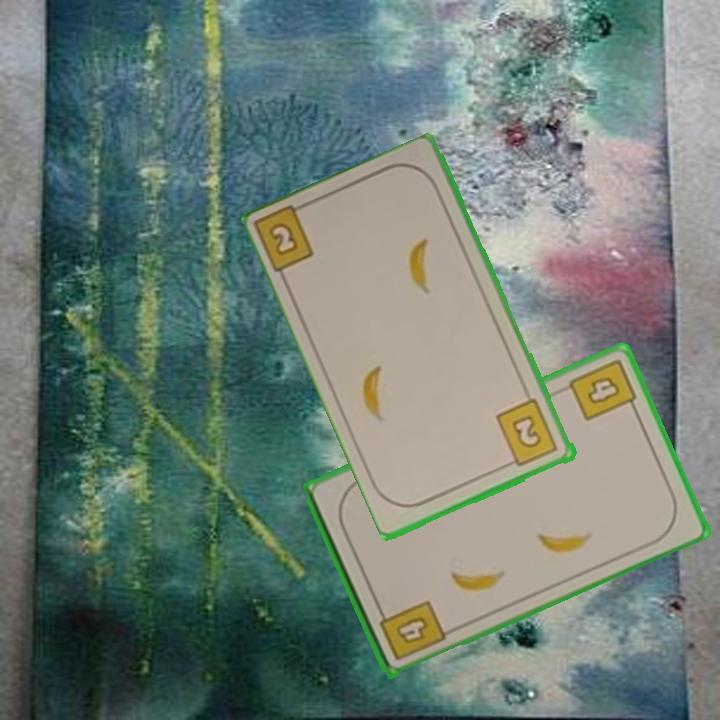2b: (492, 395, 561, 470), (254, 198, 318, 277)
4b: (565, 354, 641, 424), (374, 596, 448, 664)
